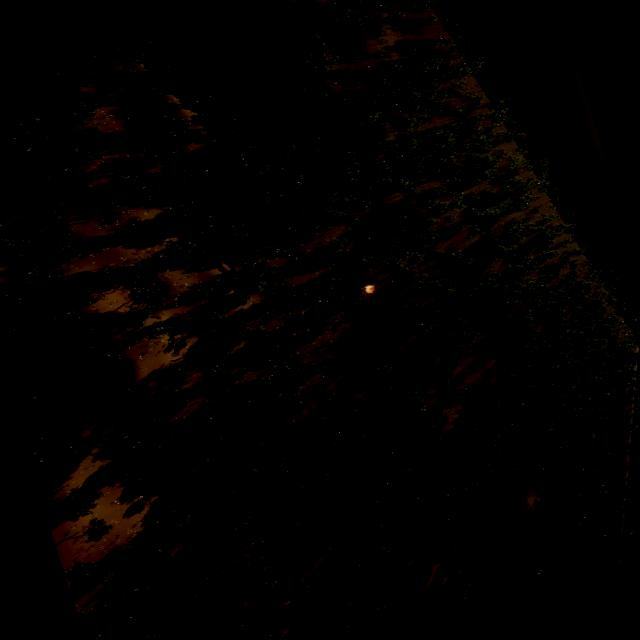fire: (363, 284, 377, 296)
